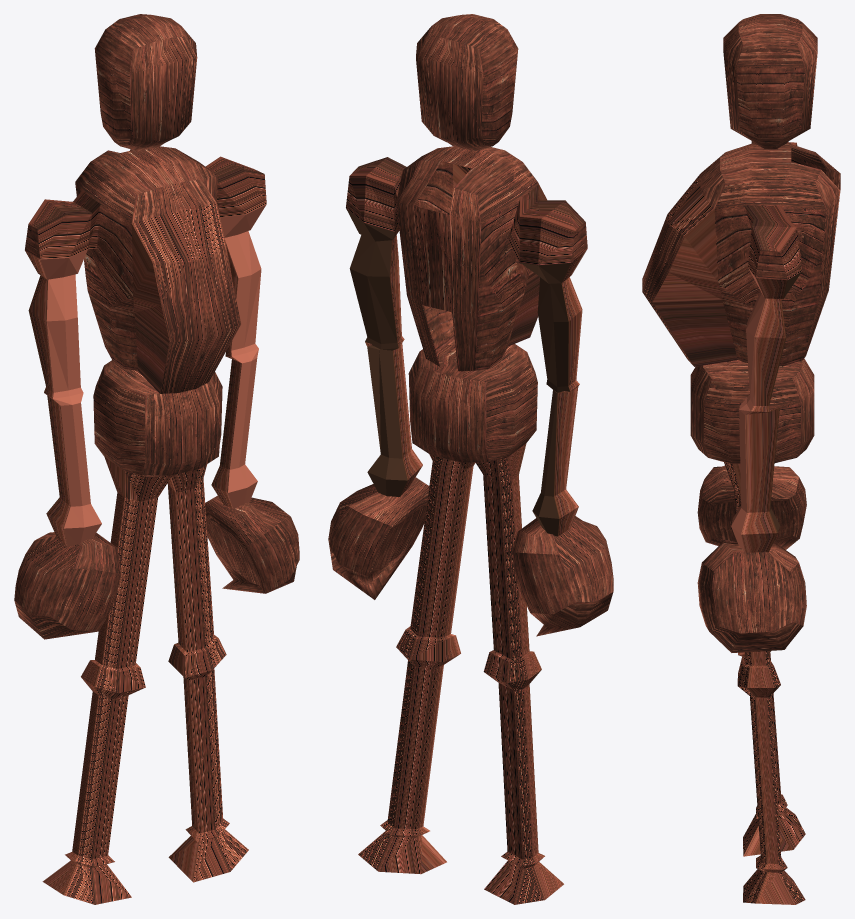
The model's file is 목각인형34.fbx.
3 views of the same model, side by side, from view 1: azimuth 30°, elevation 25°; view 2: azimuth 150°, elevation 25°; view 3: azimuth 270°, elevation 25° (orthographic).
Visible parts, largest first — view 1: Box004; view 2: Box004; view 3: Box004.
Part boxes in pixels (x1,y1,x2,y2): Box004: (14, 14, 299, 904); Box004: (328, 14, 613, 904); Box004: (642, 14, 840, 904).
Size of the model in its own units: 33.41 by 21.48 by 102.
1 material, 1 textured.
